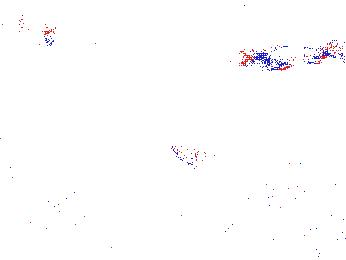X-ray fish: (104, 188, 158, 231)
glassfish: (167, 142, 271, 197)
red belly glassfish: (42, 24, 58, 48)
redtail glassfish: (240, 42, 333, 71), (1, 3, 25, 35)
